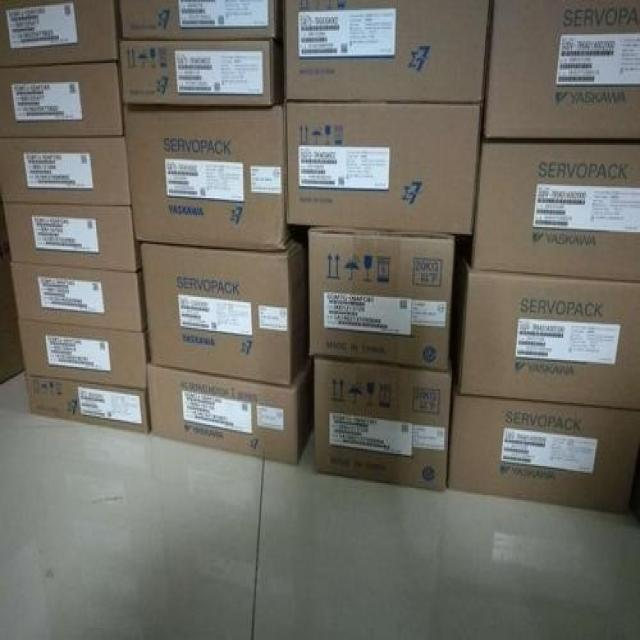box: (448, 243, 639, 410), (286, 101, 481, 236), (124, 98, 296, 251), (140, 230, 310, 384), (446, 382, 639, 513), (470, 143, 639, 283), (482, 0, 639, 142), (285, 0, 492, 103), (309, 229, 455, 370), (315, 360, 452, 491), (147, 358, 314, 462), (119, 37, 281, 107), (11, 260, 146, 331), (0, 61, 123, 138), (4, 202, 140, 270), (0, 137, 130, 206), (17, 320, 150, 386), (0, 0, 124, 68), (24, 374, 152, 435), (120, 0, 276, 38)
